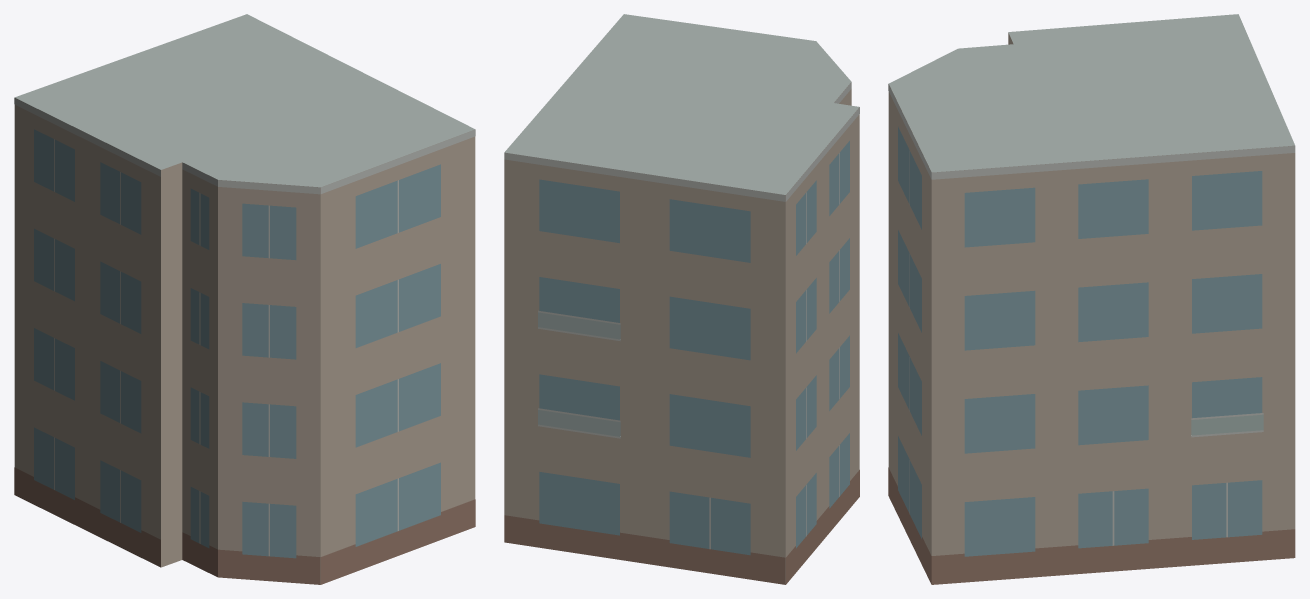
The model's file is survey-upis-32705923.glb.
The picture shows the model from 3 angles, left to right: view 1: azimuth 30°, elevation 25°; view 2: azimuth 150°, elevation 25°; view 3: azimuth 270°, elevation 25°; orthographic projection. The views are drawn at different scales.
Visible parts, largest first — view 1: survey-upis-32705923.tmp; view 2: survey-upis-32705923.tmp; view 3: survey-upis-32705923.tmp.
Part boxes in pixels (x1,y1,x2,y2): survey-upis-32705923.tmp: (14, 14, 475, 584); survey-upis-32705923.tmp: (504, 14, 859, 584); survey-upis-32705923.tmp: (888, 14, 1295, 584).
Bounding box in the file's own units: 11.38 × 13.8 × 12.34.
